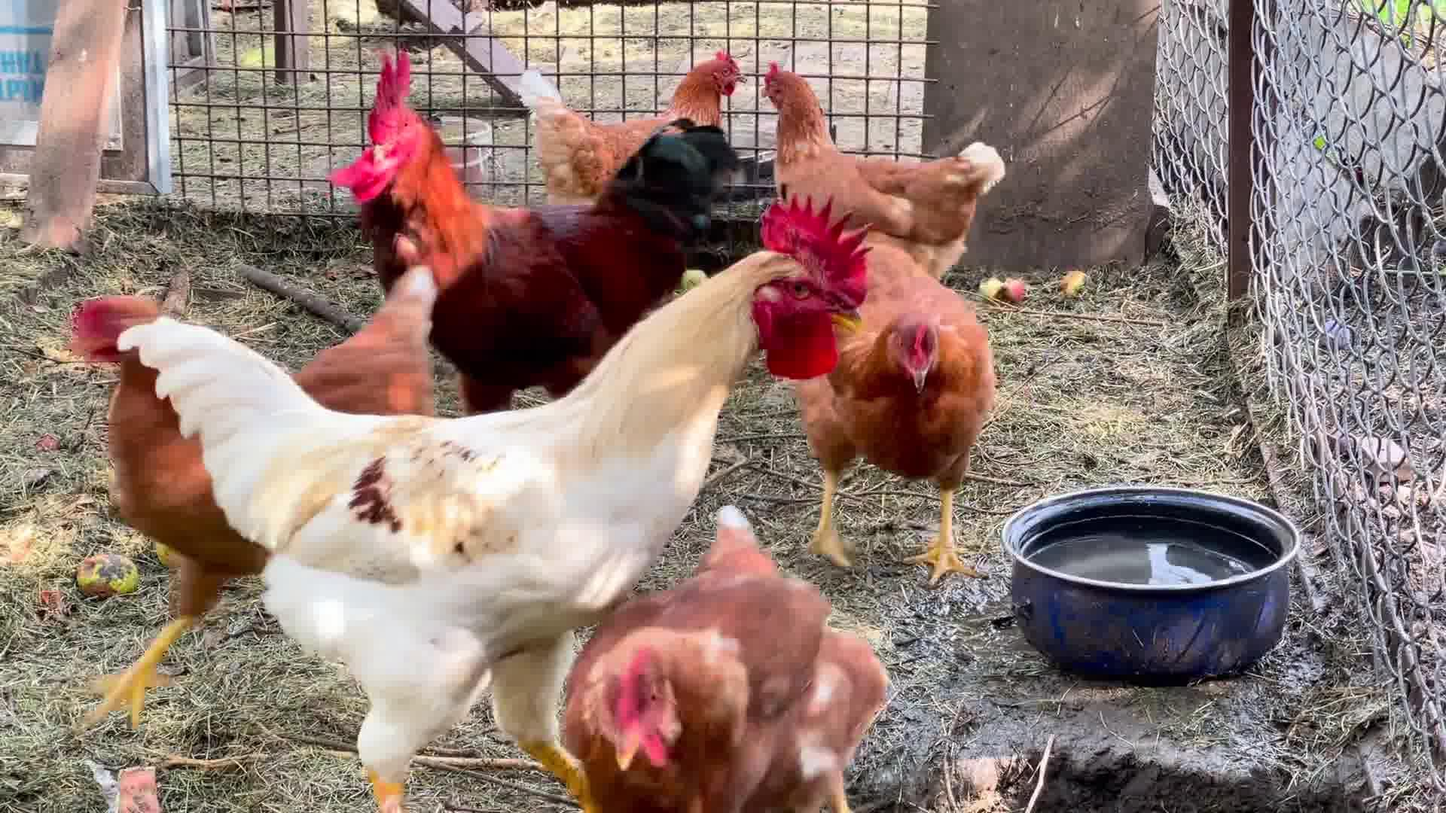Normal: (155, 204, 873, 813), (64, 260, 477, 737), (341, 64, 722, 396), (552, 529, 893, 813), (767, 66, 1000, 259), (516, 42, 765, 193)
